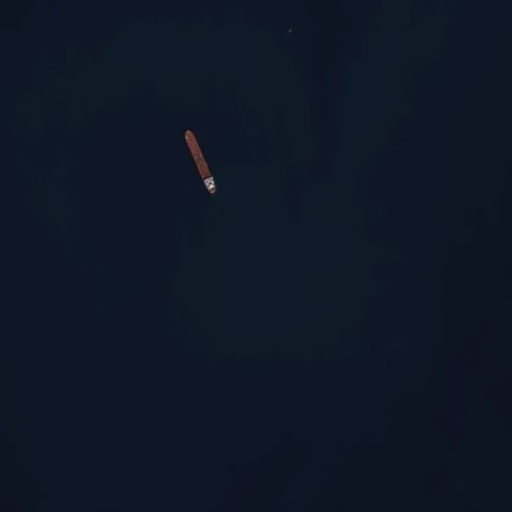ship: (181, 126, 221, 198)
